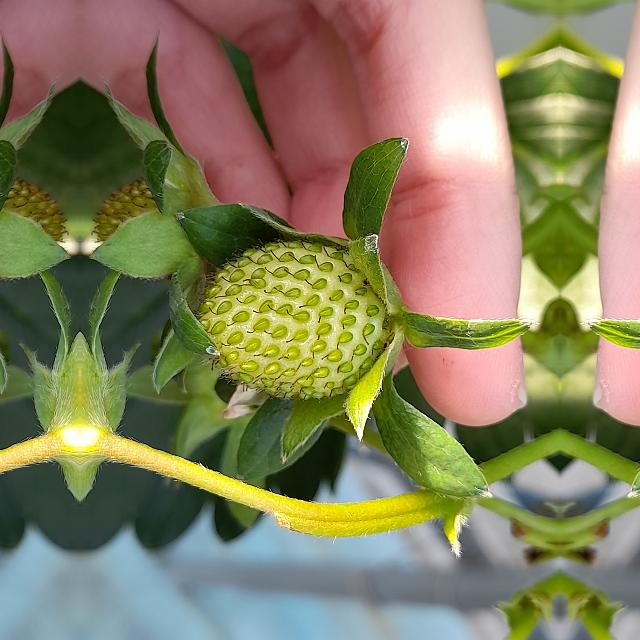Health_25: (191, 236, 389, 402)
